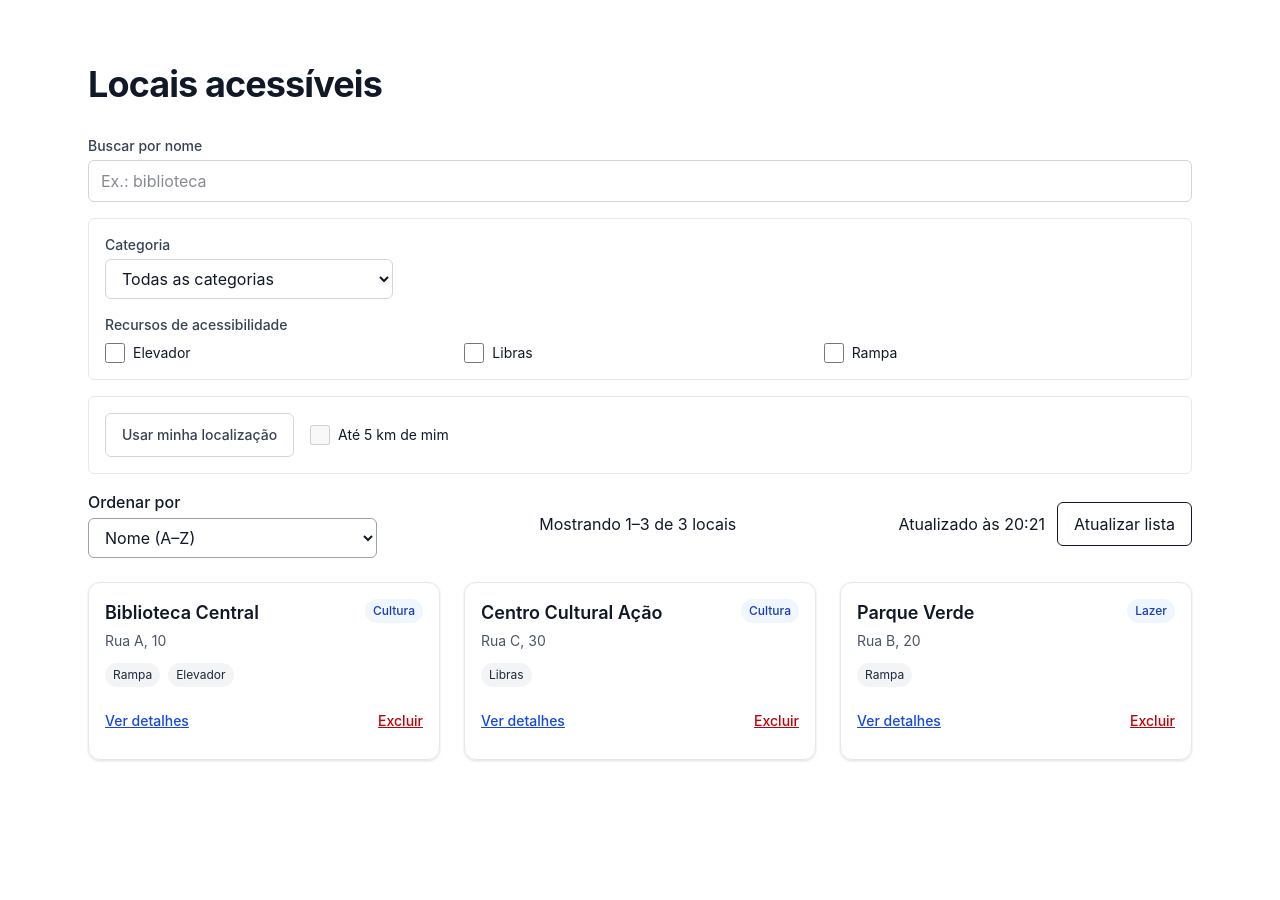
Test: Locais: busca e filtros › exige todos os recursos marcados
Expected: the text "Mostrando 1–3 de 3 locais" is shown, [539,512,736,536]
Click the checkbox labelled "Rampa". click: (834, 353)
box: [824,343,844,363]
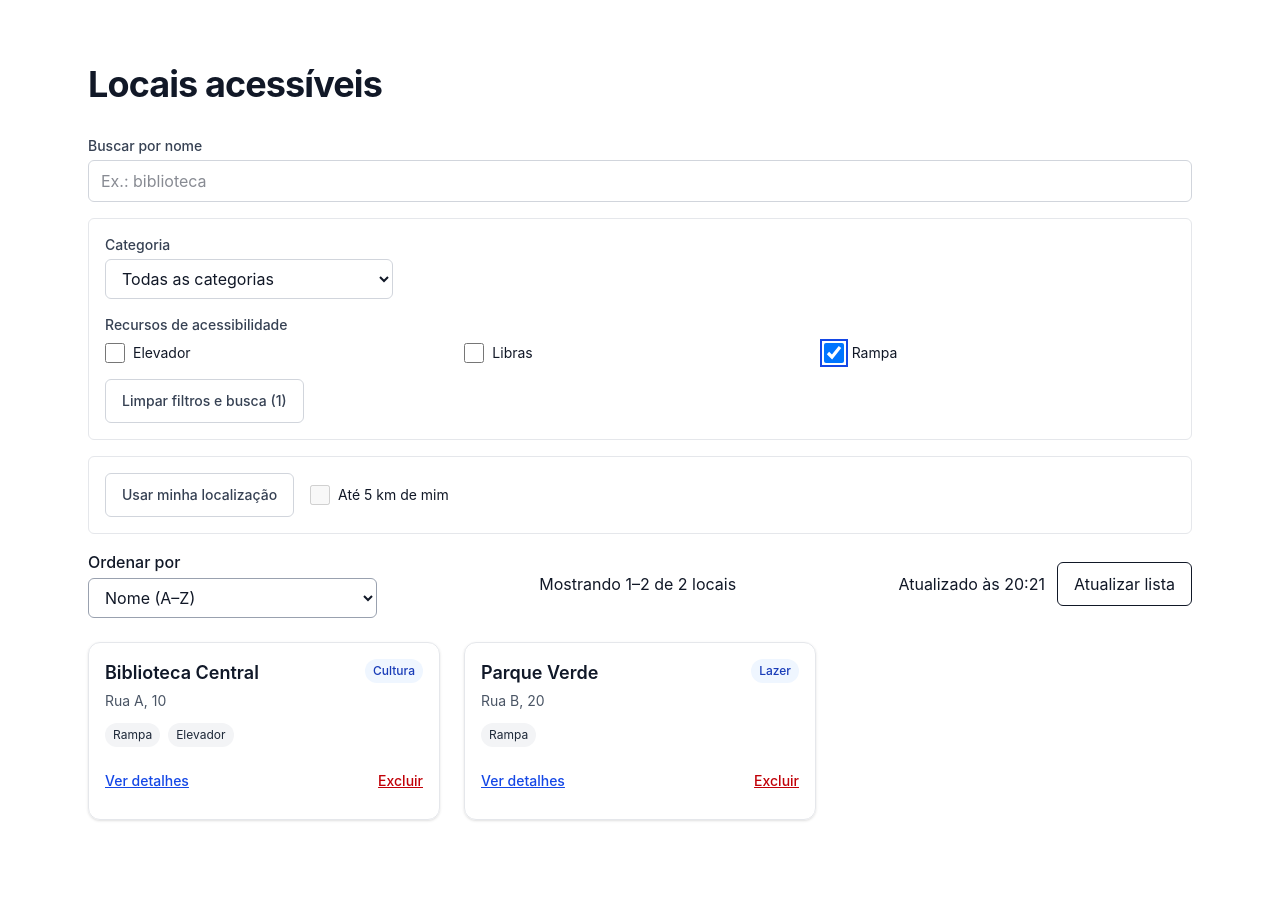
Click the checkbox labelled "Elevador". click: (115, 353)
box: [105,343,125,363]
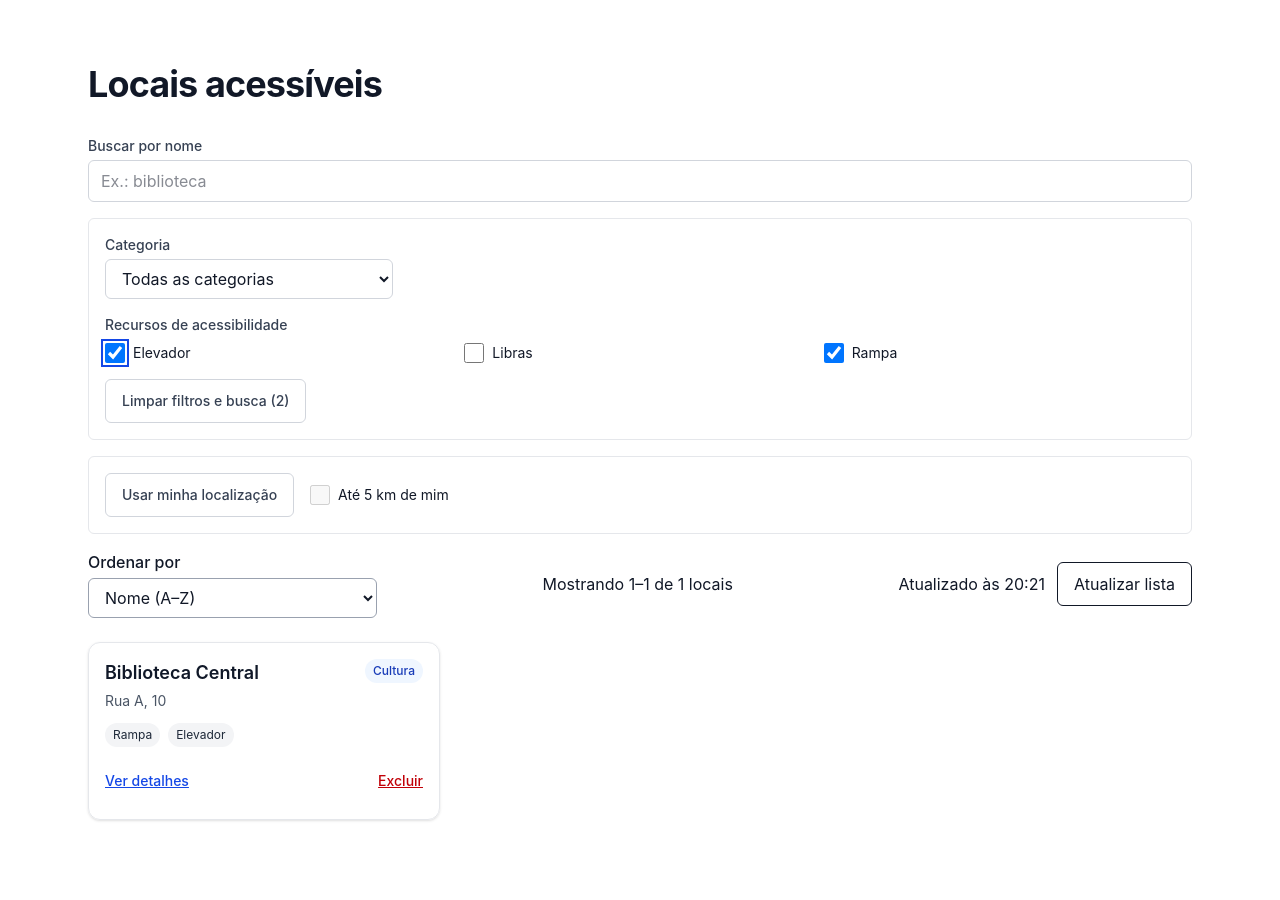
Expected: the text "Mostrando 1–1 de 1 locais" is shown, [543,572,733,596]
